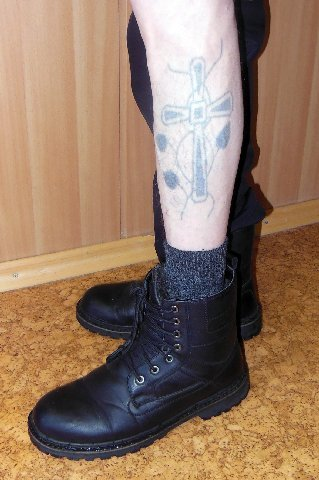tatu9_krest: (161, 49, 231, 205)
